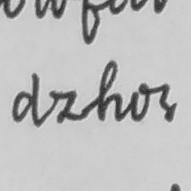d: (9, 70, 45, 129)
h: (94, 59, 124, 124)
o: (126, 80, 151, 124)
s: (154, 82, 179, 124)
z: (47, 88, 83, 126)
